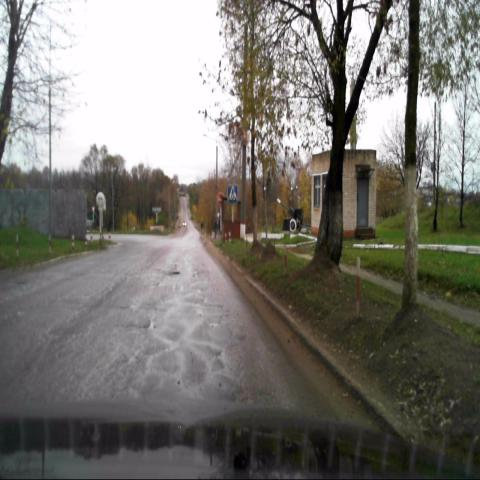5_19_1: (228, 184, 238, 203)
